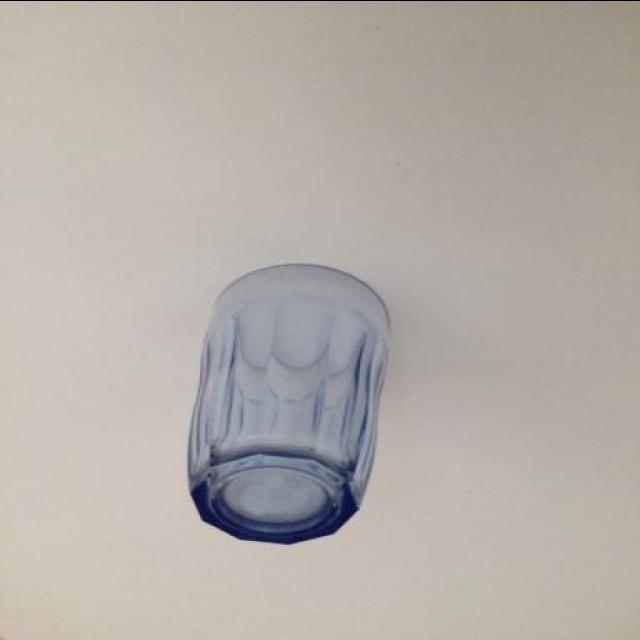litter: (187, 260, 393, 544)
